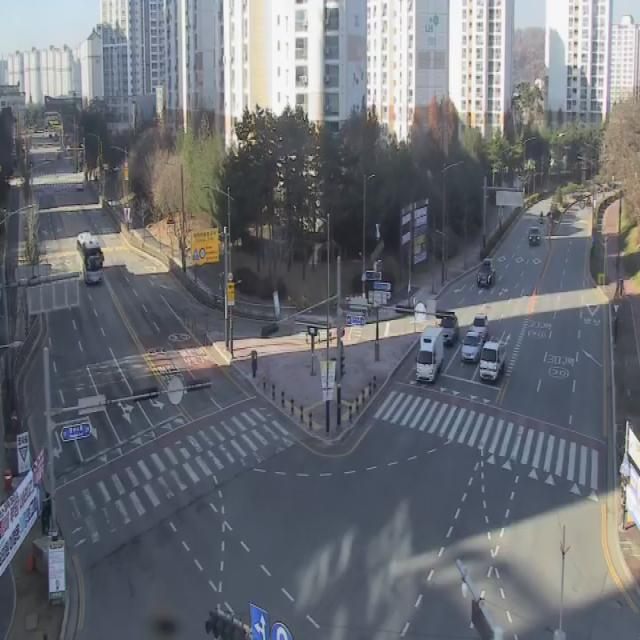Bus: (76, 232, 104, 286)
Car: (461, 332, 482, 364), (440, 314, 458, 346), (470, 313, 488, 341), (477, 259, 495, 286), (528, 225, 540, 246)
Truck: (416, 326, 443, 382), (480, 341, 506, 381)
